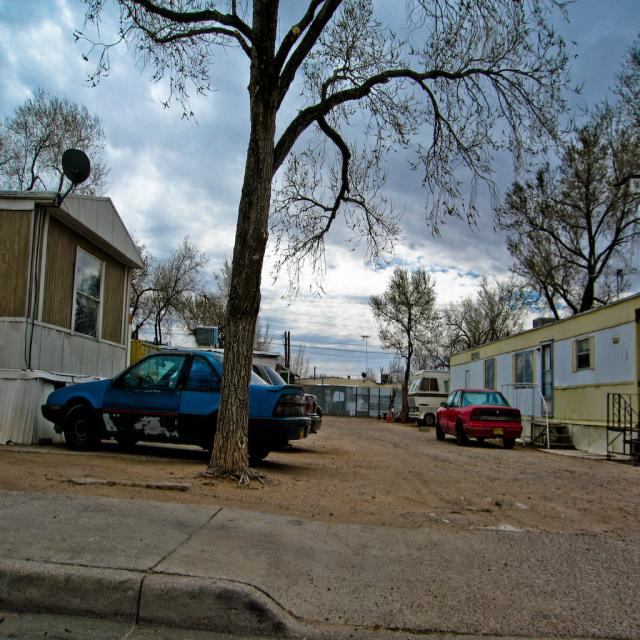car: (428, 388, 534, 443)
